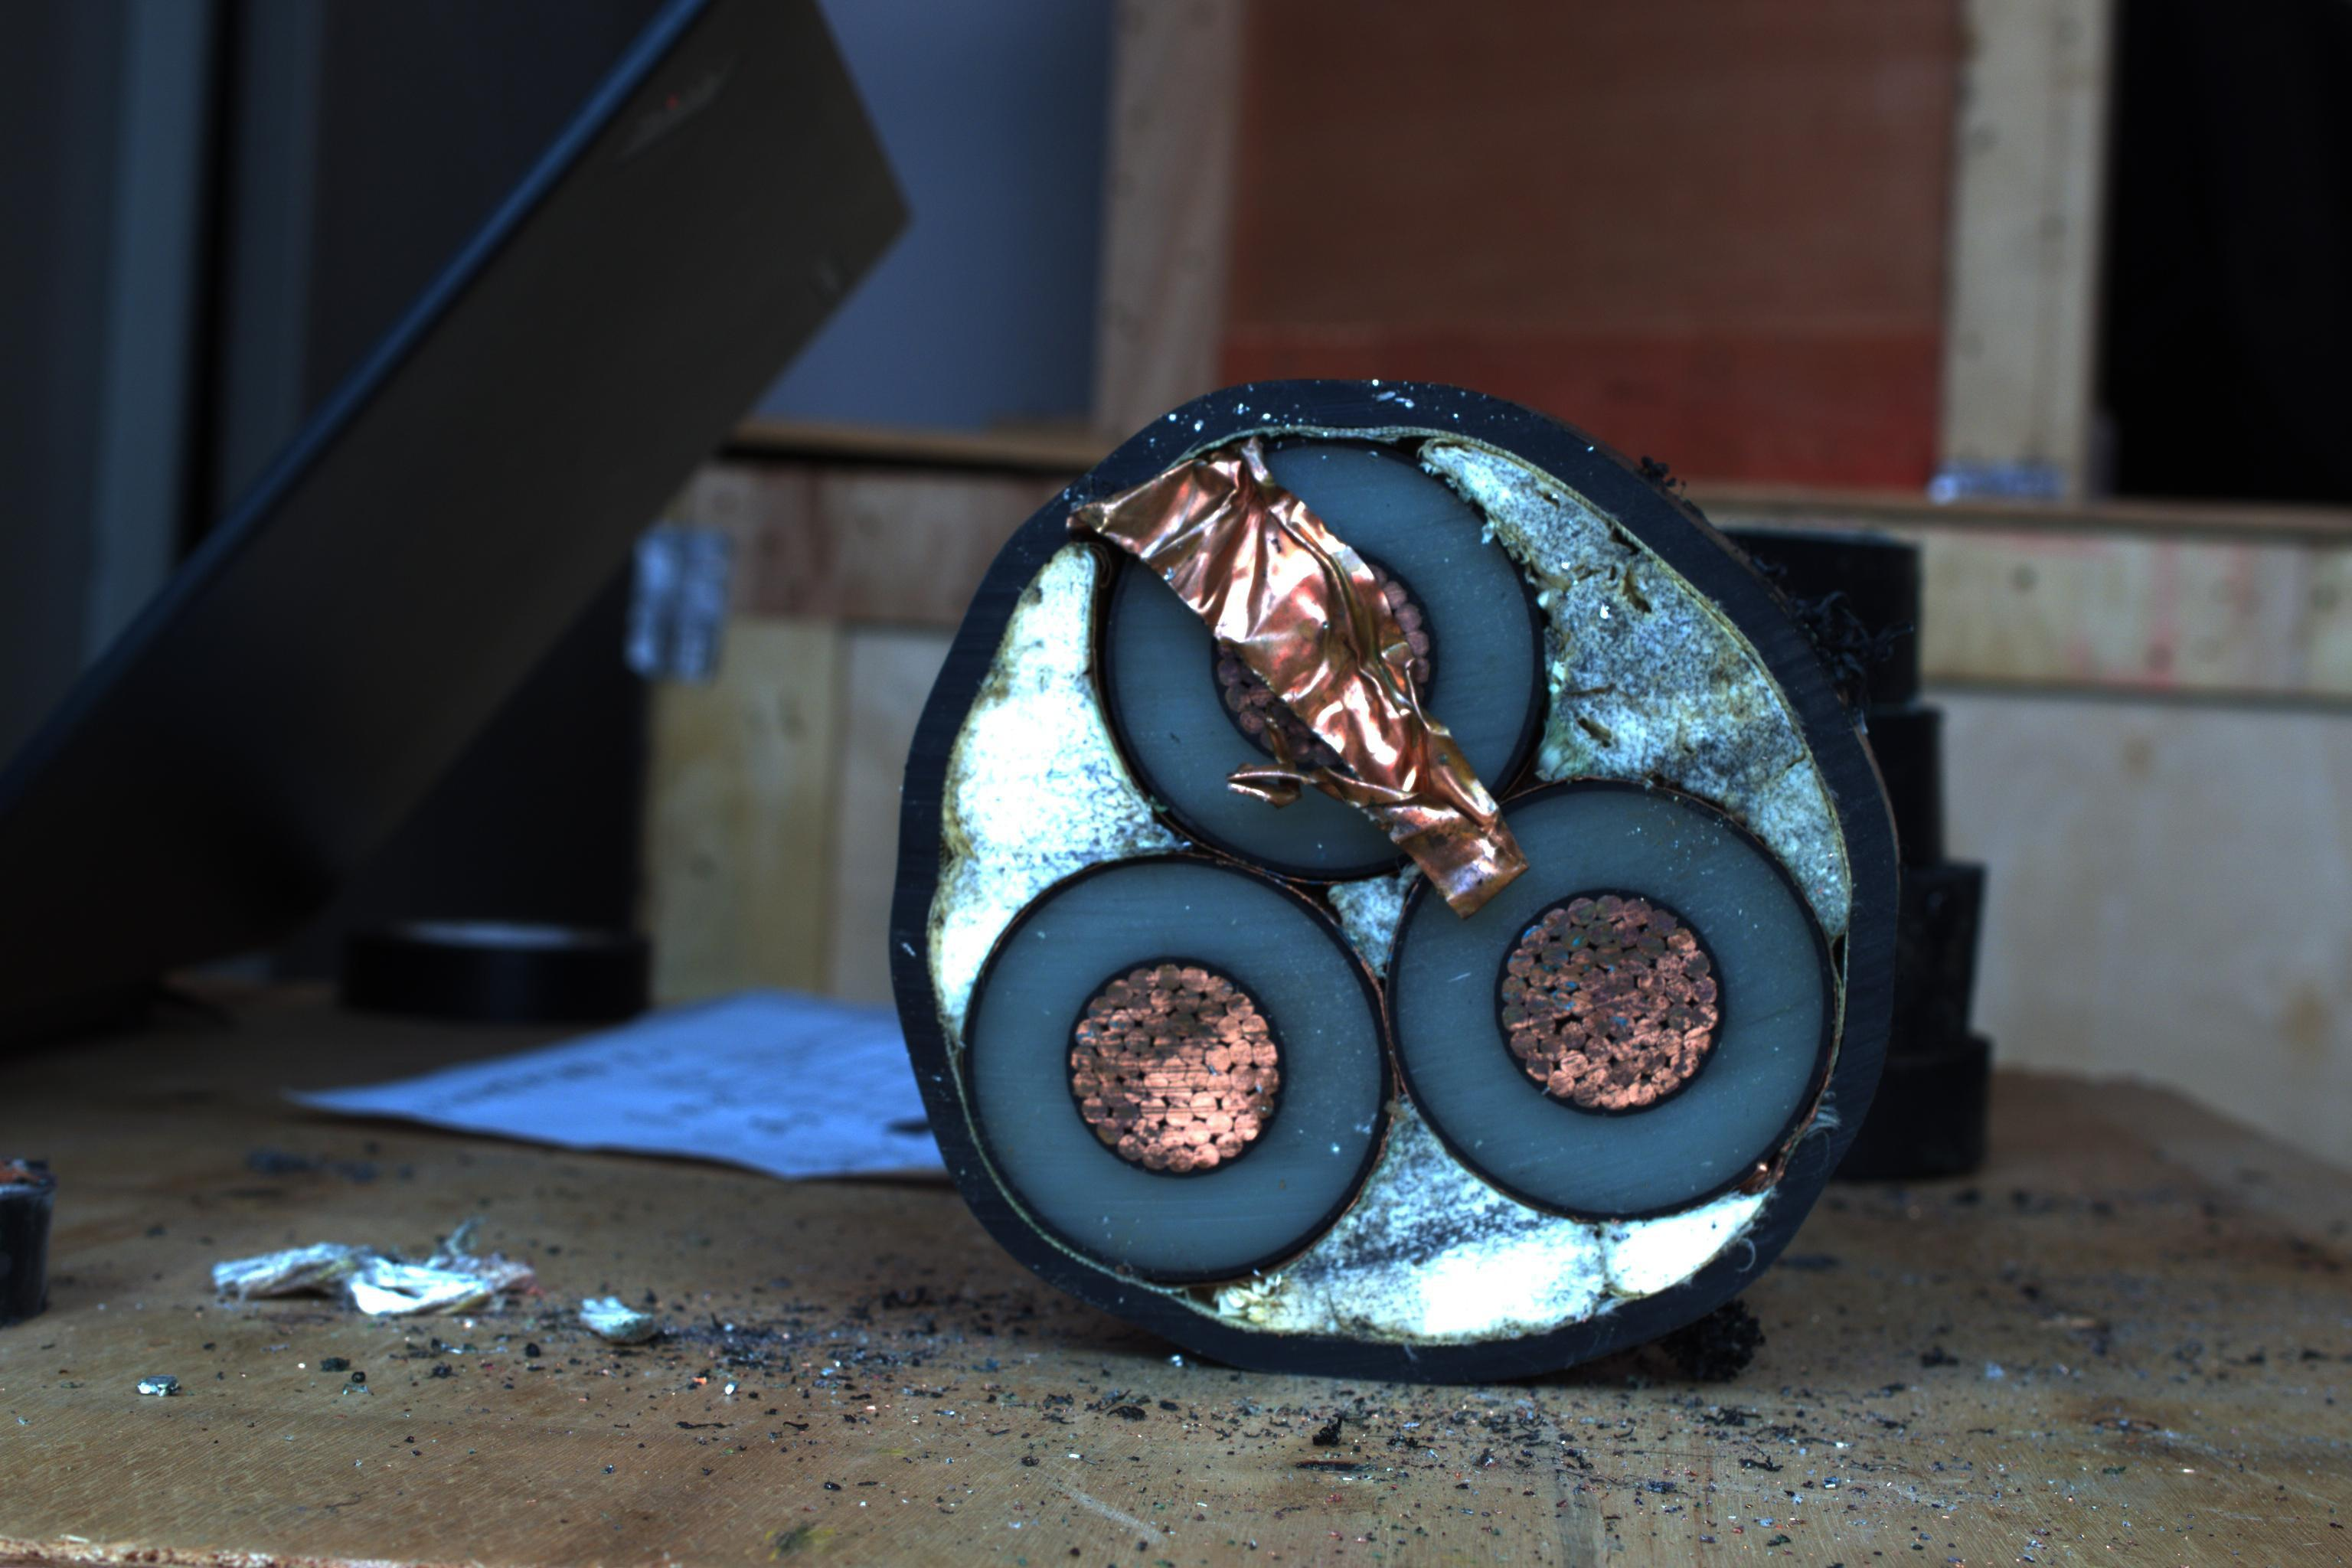ZA_YJV_26_35kV_3x400: (875, 408, 1886, 1360)
